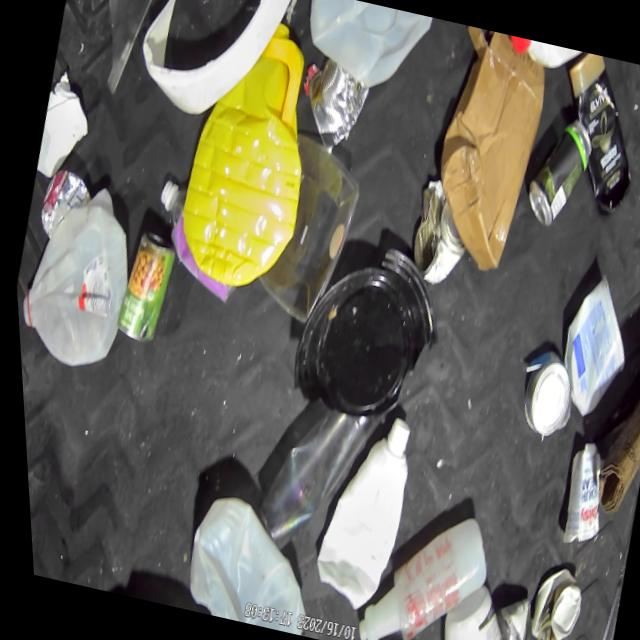can: (515, 95, 605, 238), (108, 229, 177, 347), (507, 344, 582, 446), (400, 193, 474, 285), (517, 565, 583, 640)
milk_jug: (8, 181, 150, 382), (171, 494, 325, 636), (281, 0, 440, 109), (499, 34, 599, 84)
non_white_jug: (160, 16, 335, 297)
